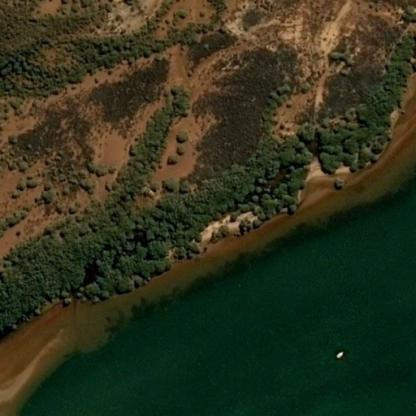ship: (333, 350, 341, 358)
